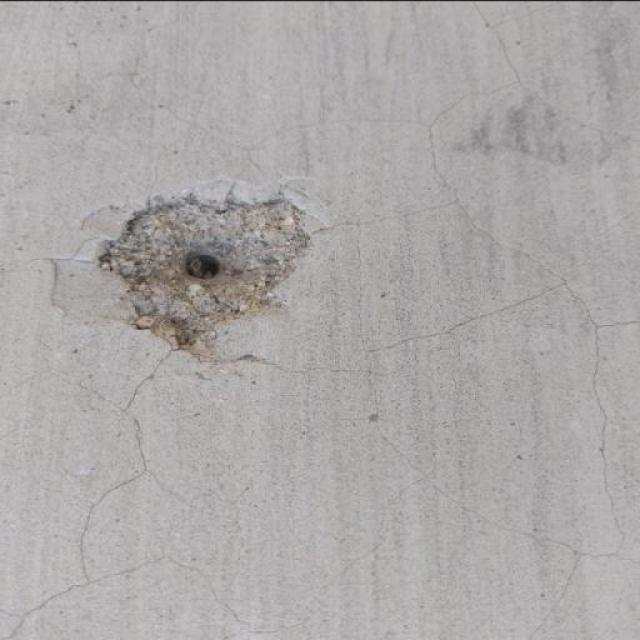D10: (90, 180, 310, 358)
